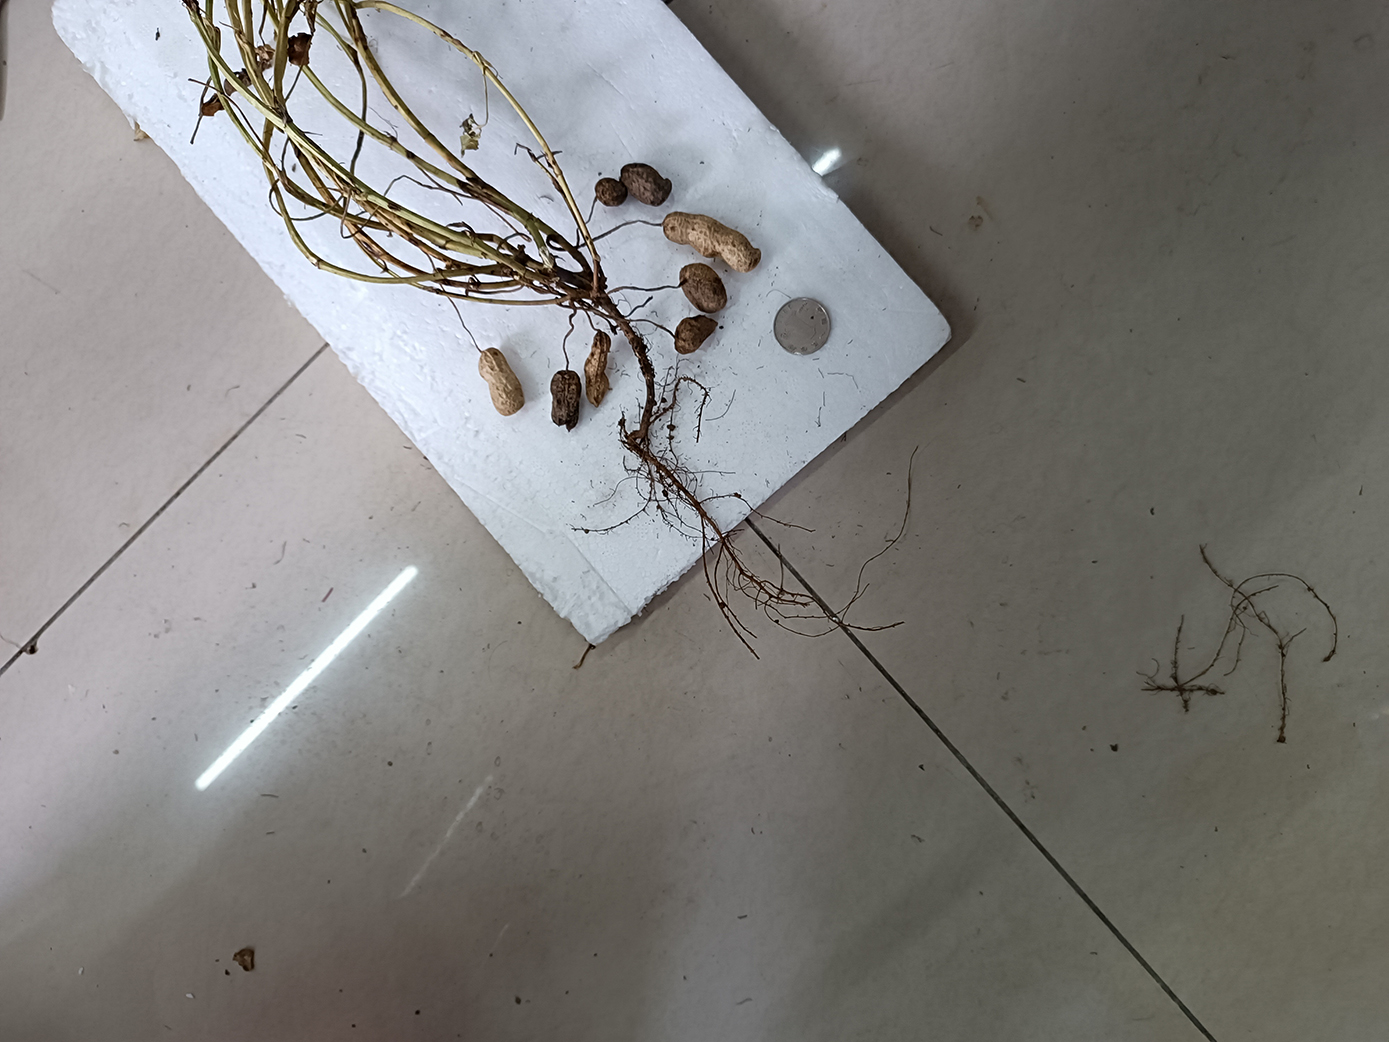h: (664, 211, 763, 271), (478, 348, 524, 417)
l: (680, 263, 727, 313), (618, 162, 672, 206), (584, 329, 612, 409), (549, 369, 581, 432), (674, 316, 719, 354), (595, 178, 627, 206)
